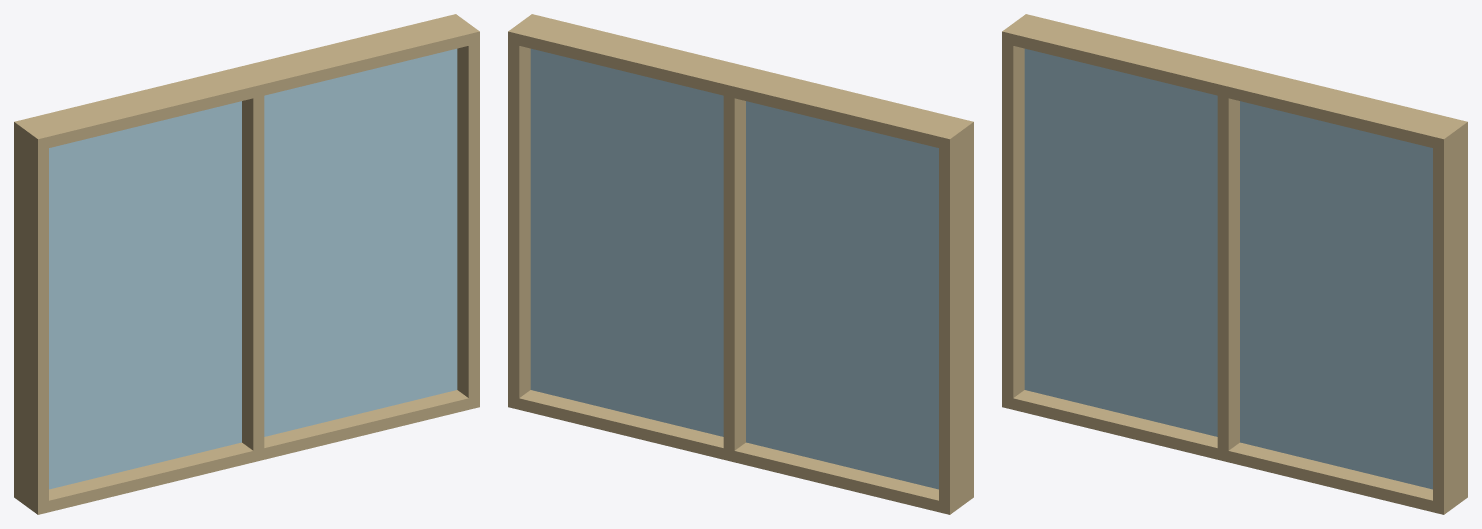
File: janela_160x130.glb
3 views of the same model, side by side, from view 1: azimuth 30°, elevation 25°; view 2: azimuth 150°, elevation 25°; view 3: azimuth 330°, elevation 25° (orthographic).
Visible parts, largest first — view 1: janela_160x130; view 2: janela_160x130; view 3: janela_160x130.
Part boxes in pixels (x1,y1,x2,y2): janela_160x130: (14, 14, 479, 514); janela_160x130: (508, 14, 973, 514); janela_160x130: (1002, 14, 1467, 514).
Bounding box in the file's own units: 1.6 × 1.3 × 0.15.
